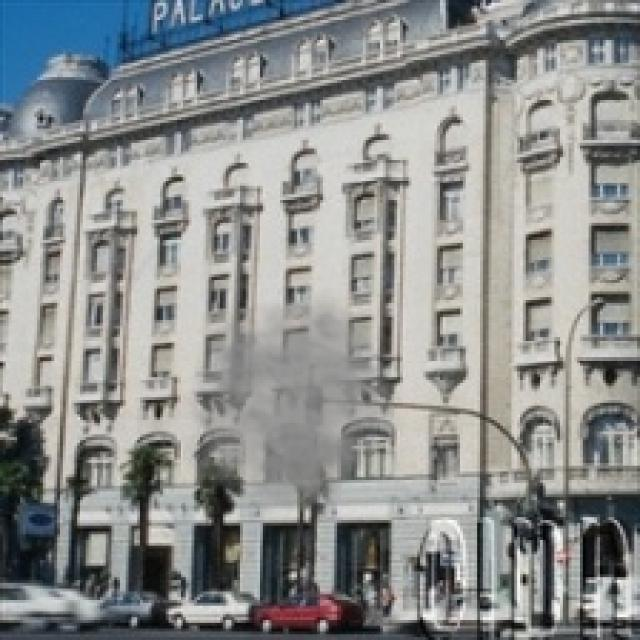smoke: (169, 288, 397, 532)
